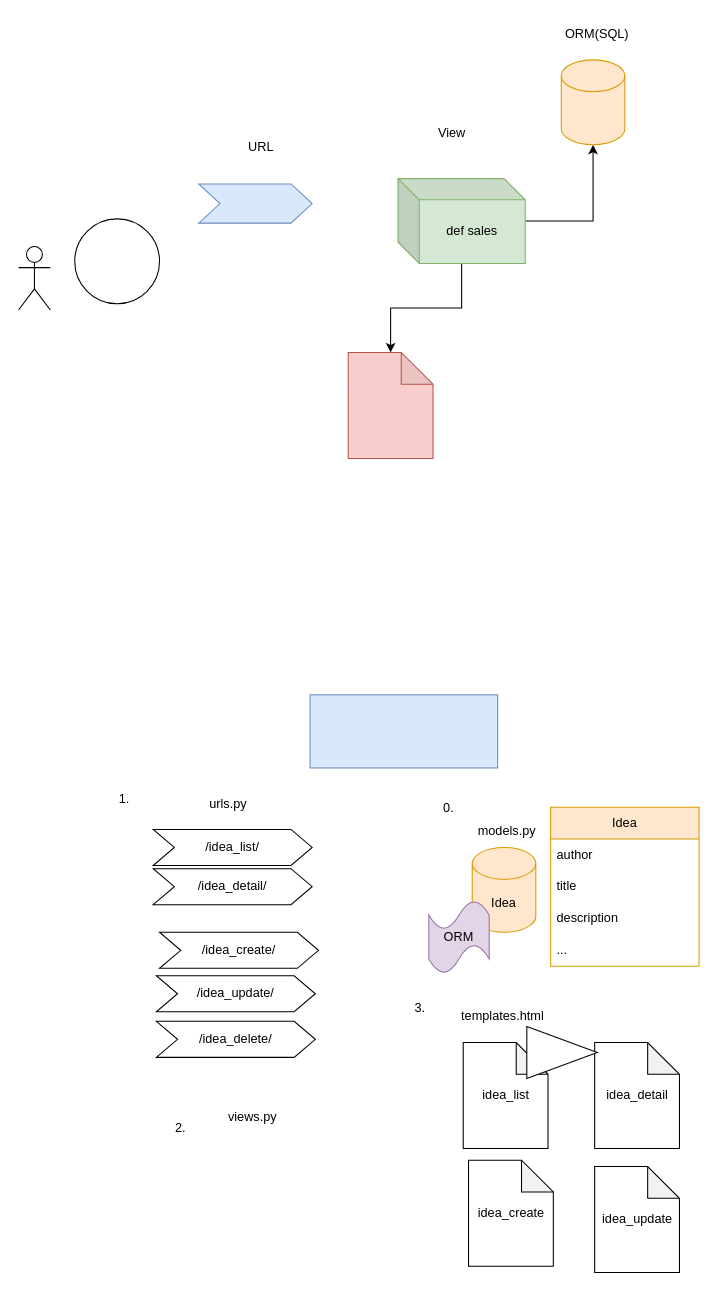
Image size: 718x1291. Some labels were removed from this diagram. The shapes that lost their labels are listed below. From the top down, each one's centre as x and y in pixels, then its label:
(x=592, y=102): Services
(x=255, y=203): /sales/
(x=33, y=277): Actor
(x=117, y=261): chrome
(x=390, y=404): sales.html
(x=403, y=731): Create Read - IdeaList, IdeaDetail Update Delete
(x=561, y=1052): idea_delete
